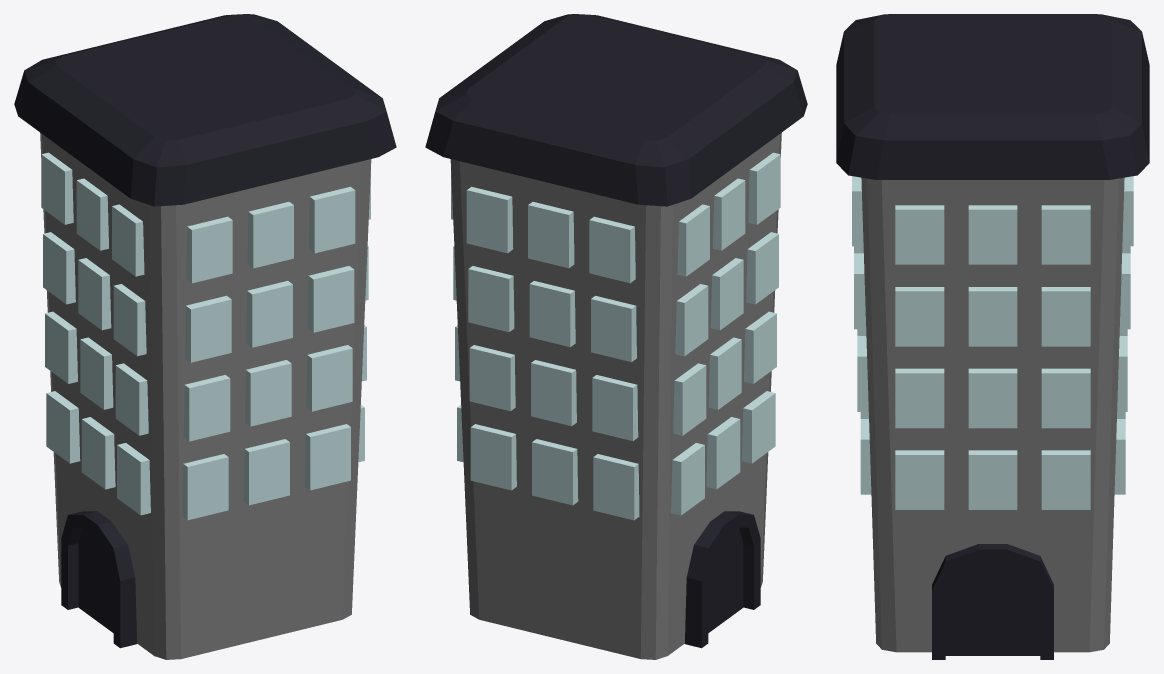
The model's file is Headquarters2.fbx.
The picture shows the model from 3 angles, left to right: view 1: azimuth 30°, elevation 25°; view 2: azimuth 150°, elevation 25°; view 3: azimuth 270°, elevation 25°; orthographic projection. The views are drawn at different scales.
Parts seen in each view (by area): view 1: Cube.013; view 2: Cube.013; view 3: Cube.013.
Part boxes in pixels (x1,y1,x2,y2): Cube.013: [14, 14, 396, 659]; Cube.013: [425, 14, 807, 659]; Cube.013: [836, 14, 1149, 659].
Size of the model in its own units: 174 by 331 by 174.
